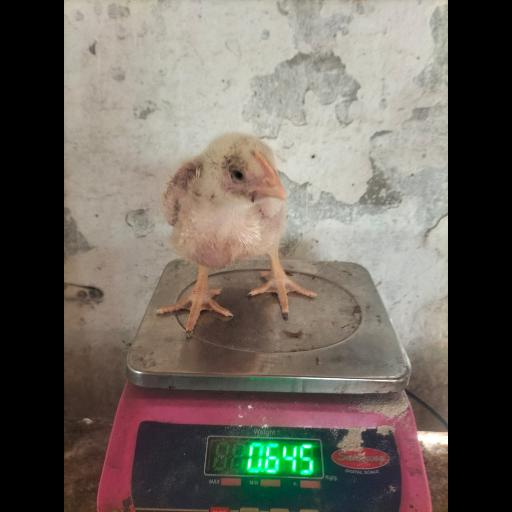chick: (155, 128, 318, 333)
